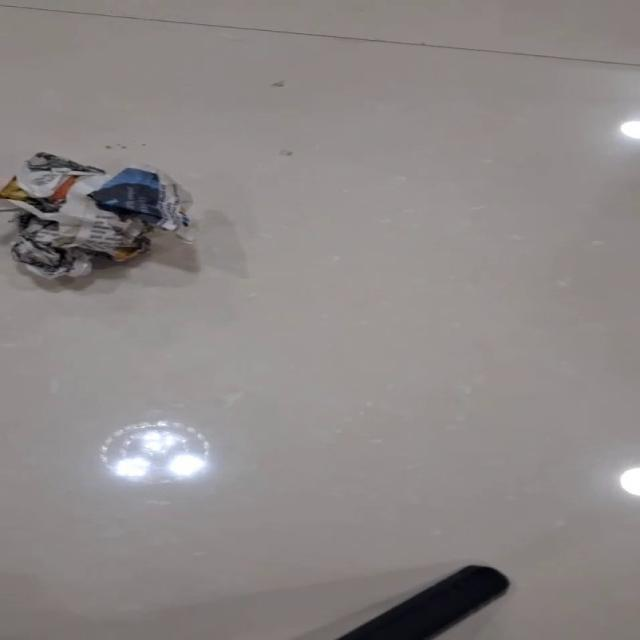paper: (1, 150, 197, 280)
